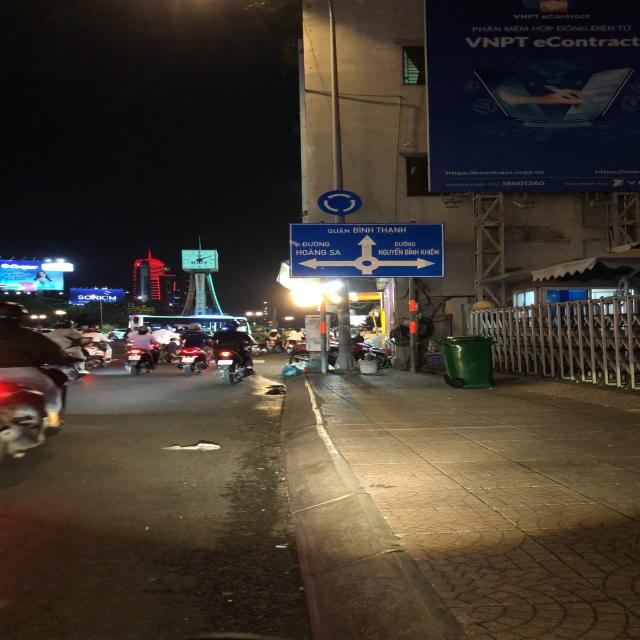Bien bao noi giao nhau chay theo vong xuyen: (314, 188, 368, 218)
